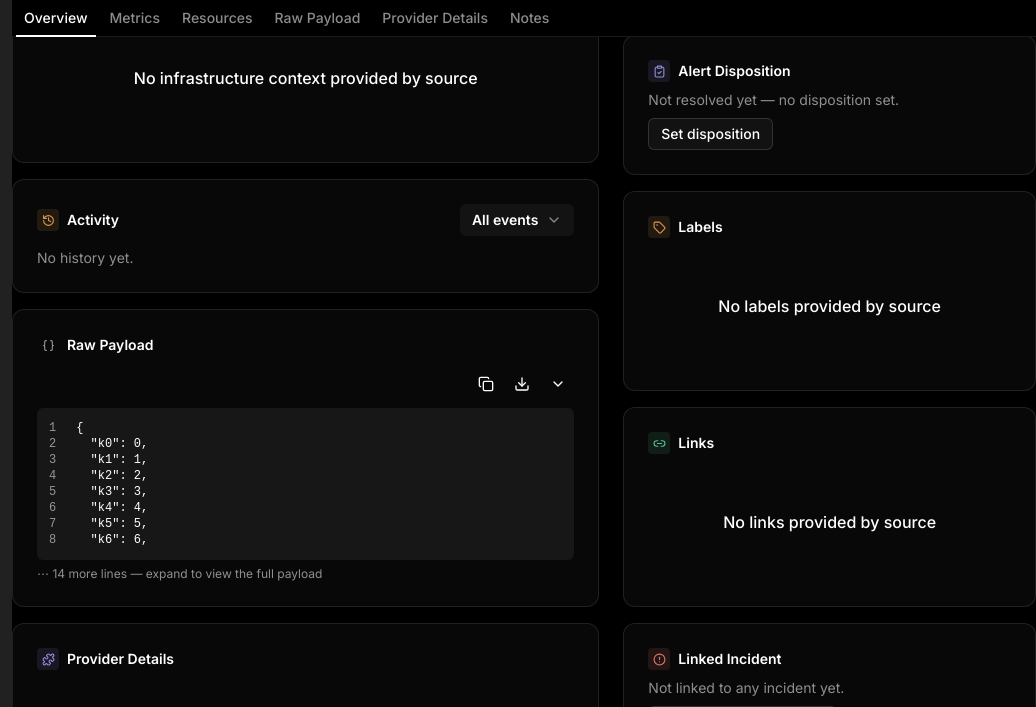
it: AlertDetailPage — raw payload › expands and collapses the raw payload preview
The width and height of the screenshot is (1036, 707).
(page scrolled)
Expected: the text "more lines?" is shown, [65,566,121,581]
Click the button titled "Expand": point(558, 384) [542,368,574,400]
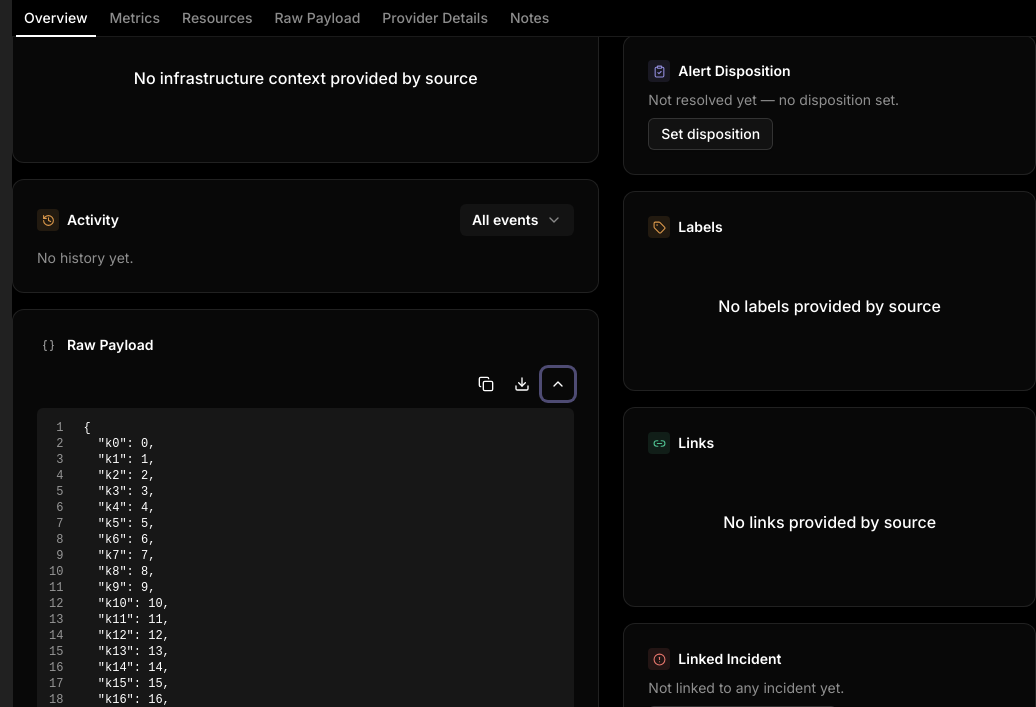
Now the text "more lines?" is gone
Click the button titled "Collapse": point(558, 384) [542,368,574,400]
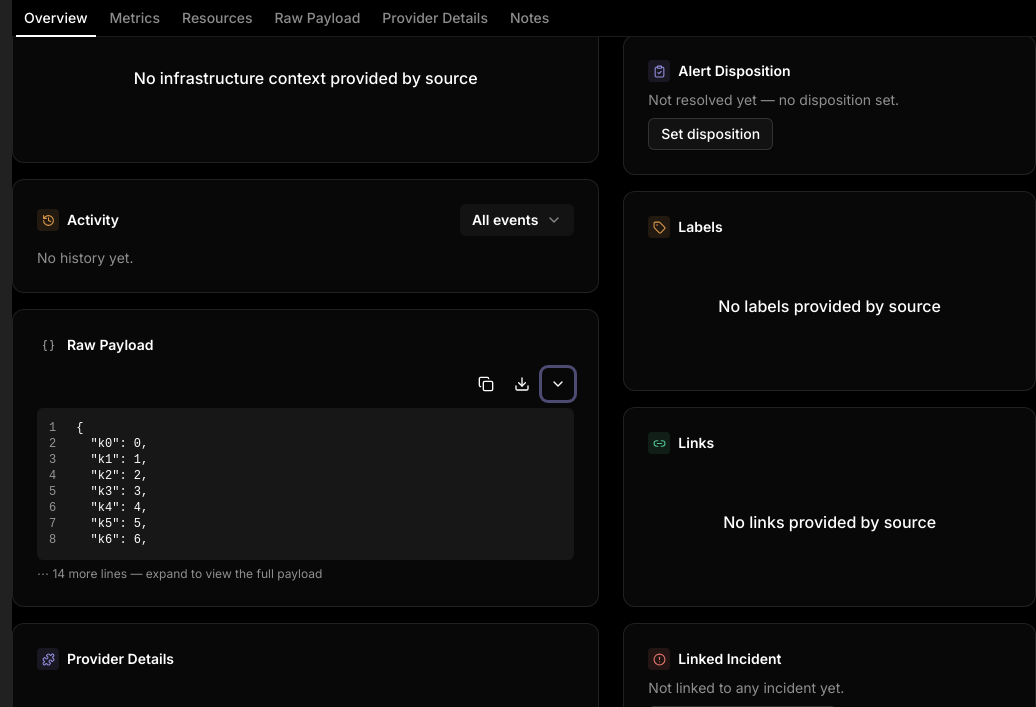
Now the text "more lines?" is shown, box [65,566,121,581]
